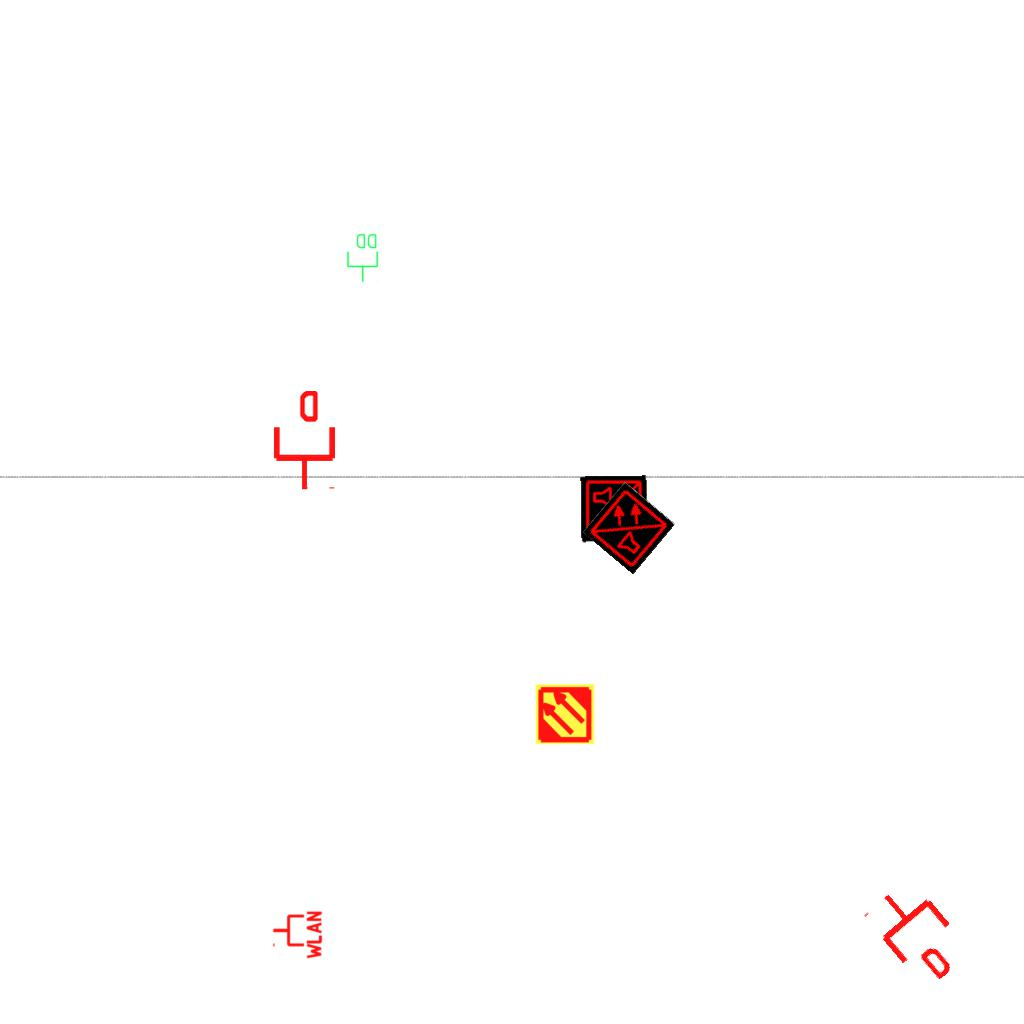ASR_Ansaugrauchmelder: (534, 683, 596, 745)
Datenanschluss_einfach: (858, 872, 977, 994), (270, 391, 339, 491)
Datenanschluss_zweifach: (346, 232, 380, 283)
OKW_Multisensormelder_(Kombination_optischer_Rauch-Kahlenmonoxid_Waerme-Melder): (582, 481, 676, 575), (580, 475, 648, 543)
WLAN: (271, 909, 323, 961)
